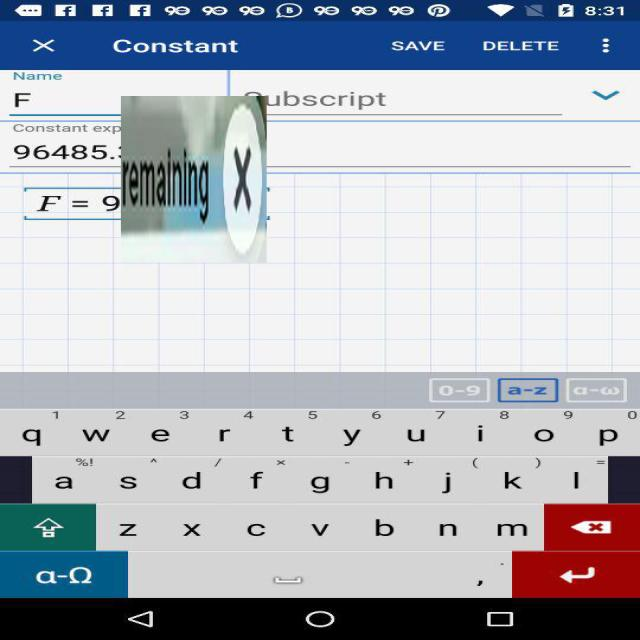misdirection: (121, 96, 267, 263)
